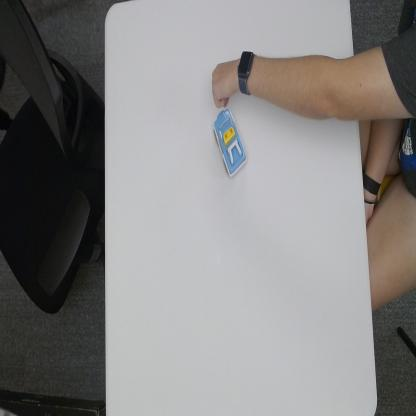Arm: (255, 54, 358, 120)
Car: (212, 107, 248, 180)
Hand: (212, 56, 239, 111)
